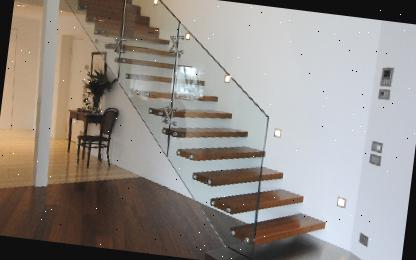stair: (33, 0, 353, 253)
